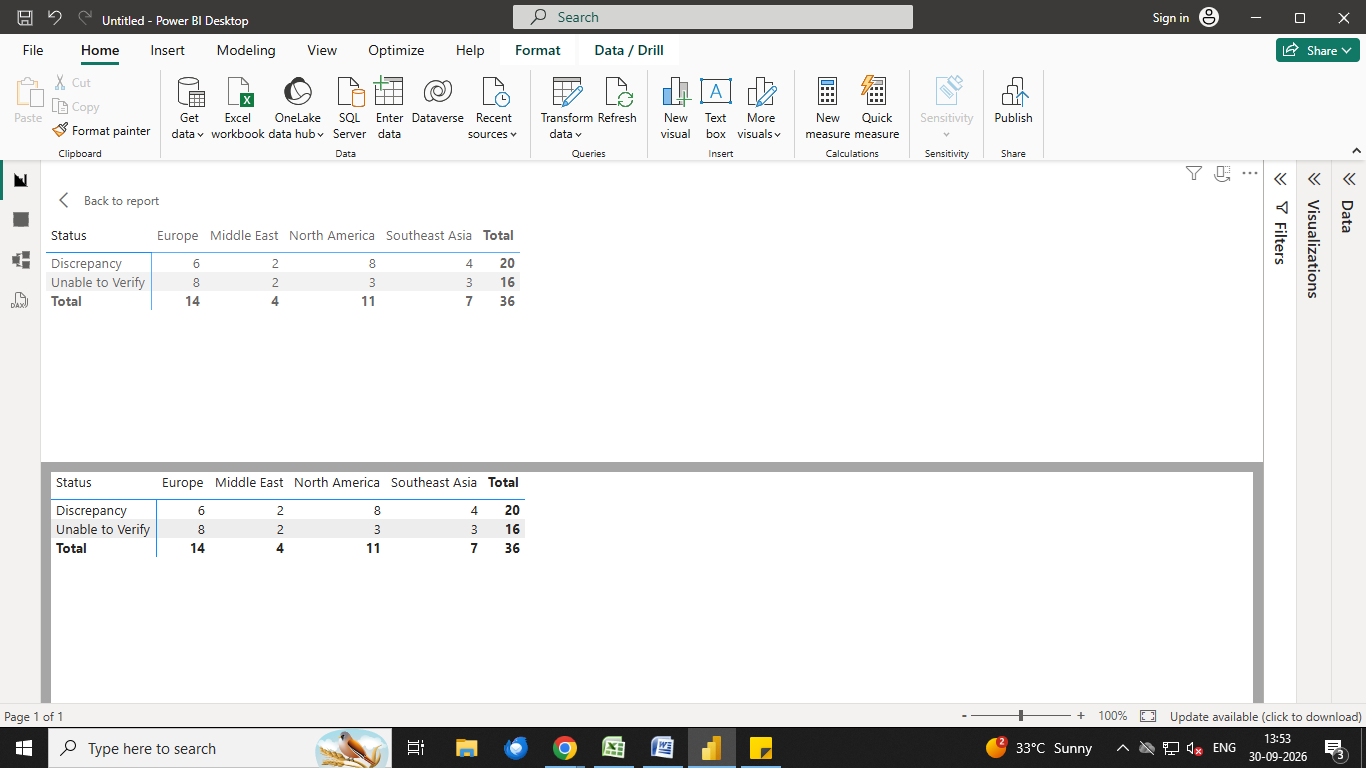

This screenshot's page, from the dashboard's own definition file:
{"tool":"powerbi","page":{"name":"Page 1","canvas":[1280,720],"ordinal":0},"visuals":[{"type":"pivotTable","fields":{"Rows":["BGV_Practice_Data.Status"],"Columns":["BGV_Practice_Data.Region"],"Values":["CountNonNull(BGV_Practice_Data.Screening ID)"]},"box":[10.1,0,495.5,151.2],"z":0}]}

Visuals, with their boxes on the page's 1280x720 design canvas (x1, y1, x2, y2). These are canvas units, not pixel positions in the 1366x768 screenshot, which may show the page scaled, cropped or inside an application window:
pivotTable - BGV_Practice_Data.Status x BGV_Practice_Data.Region: Rect(10, 0, 506, 151)
